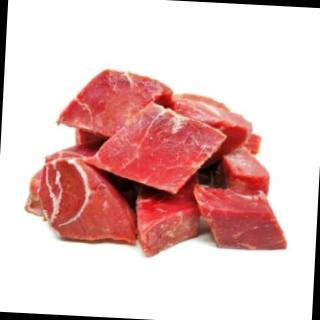Daging Sapi: (92, 101, 229, 201), (38, 158, 141, 249), (61, 68, 173, 142), (193, 189, 293, 252), (138, 195, 203, 260)
